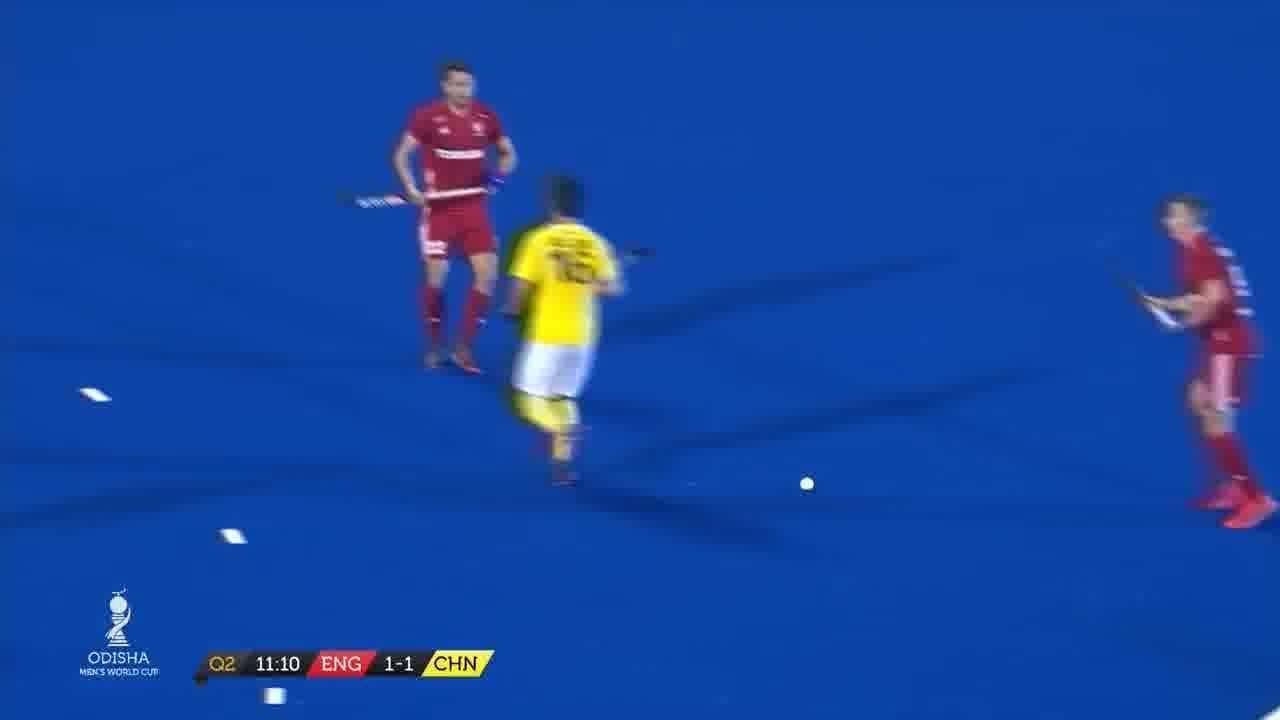ball: (795, 468, 823, 502)
